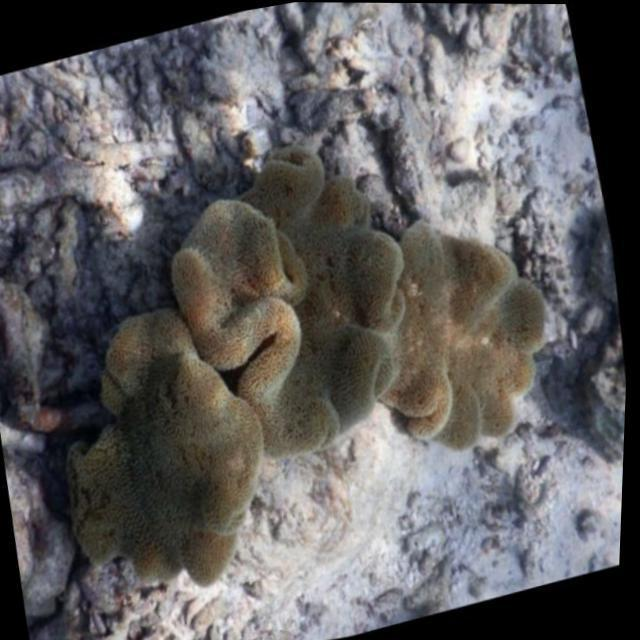Dead Coral: (43, 159, 578, 574)
